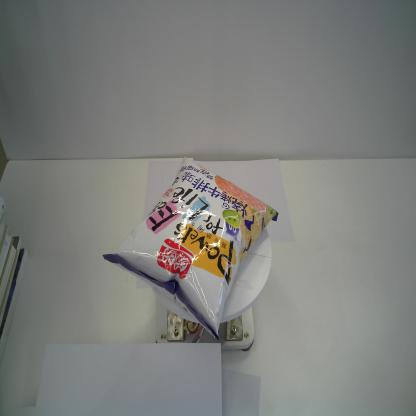Puffed Food: (101, 154, 279, 340)
